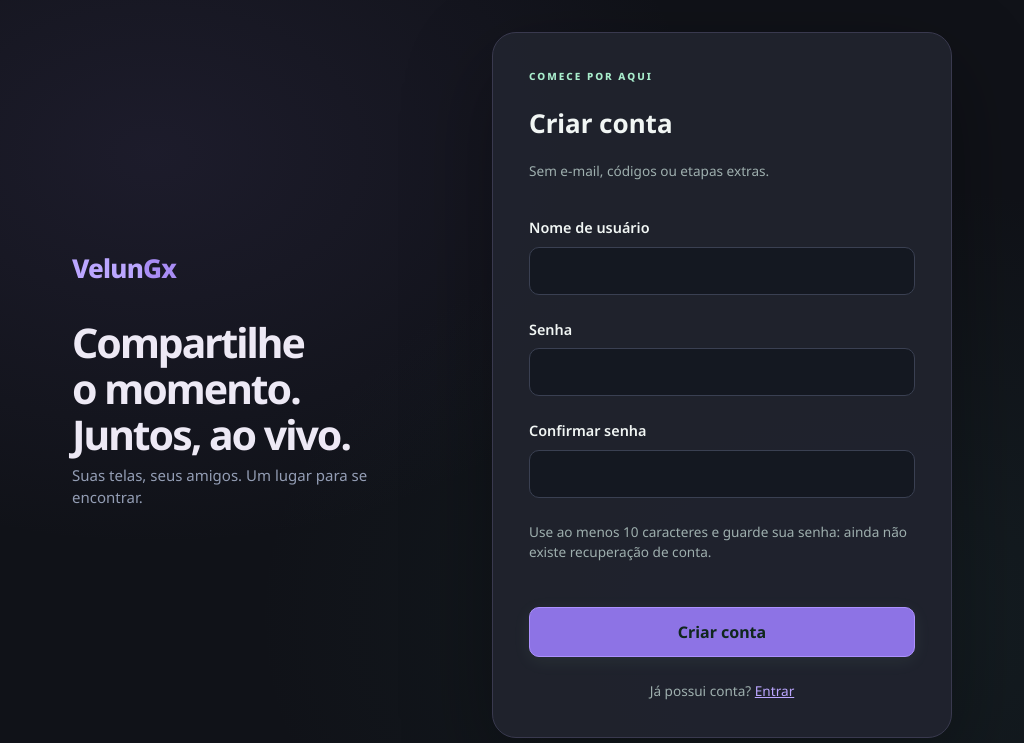
Conta › cadastra e mostra a conta obtida da API, sem guardar senha no storage
Step 1. Type "Davi" into the field labelled "Nome de usuário" → (722, 271), box [529,247,915,295]
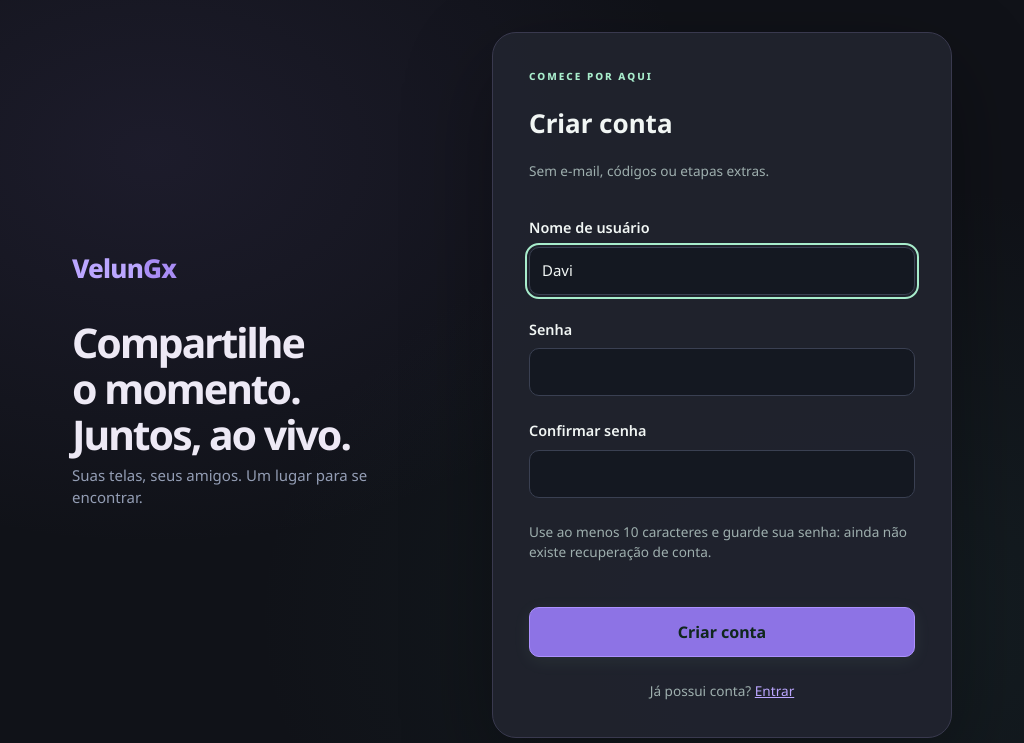
Step 2. Type "senha-muito-segura" into the password field labelled "Senha" → (722, 372), box [529,348,915,396]
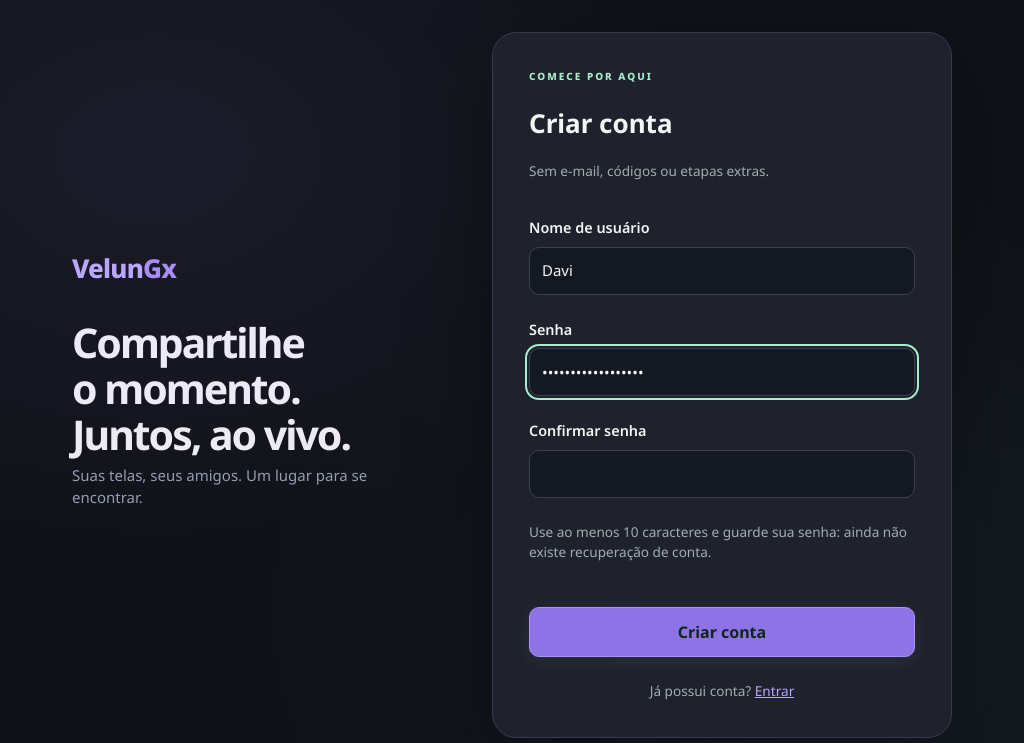
Step 3. Type "senha-muito-segura" into the password field labelled "Confirmar senha" → (722, 474), box [529,450,915,498]
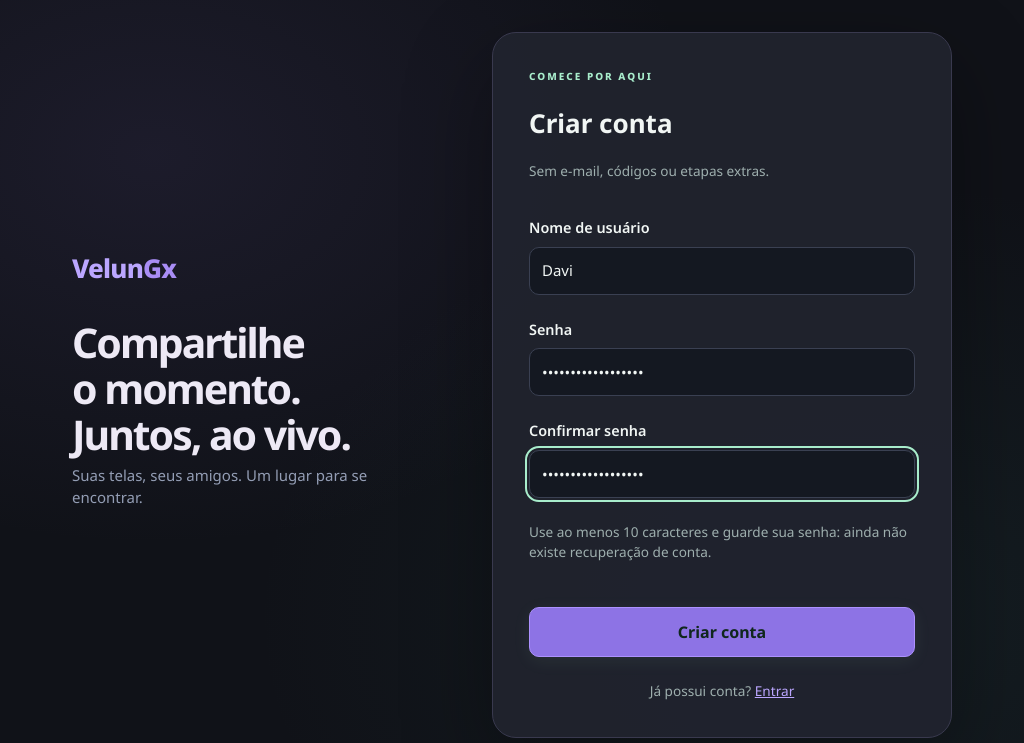
Step 4. Click the button "Criar conta" → (722, 632), box [529,607,915,657]
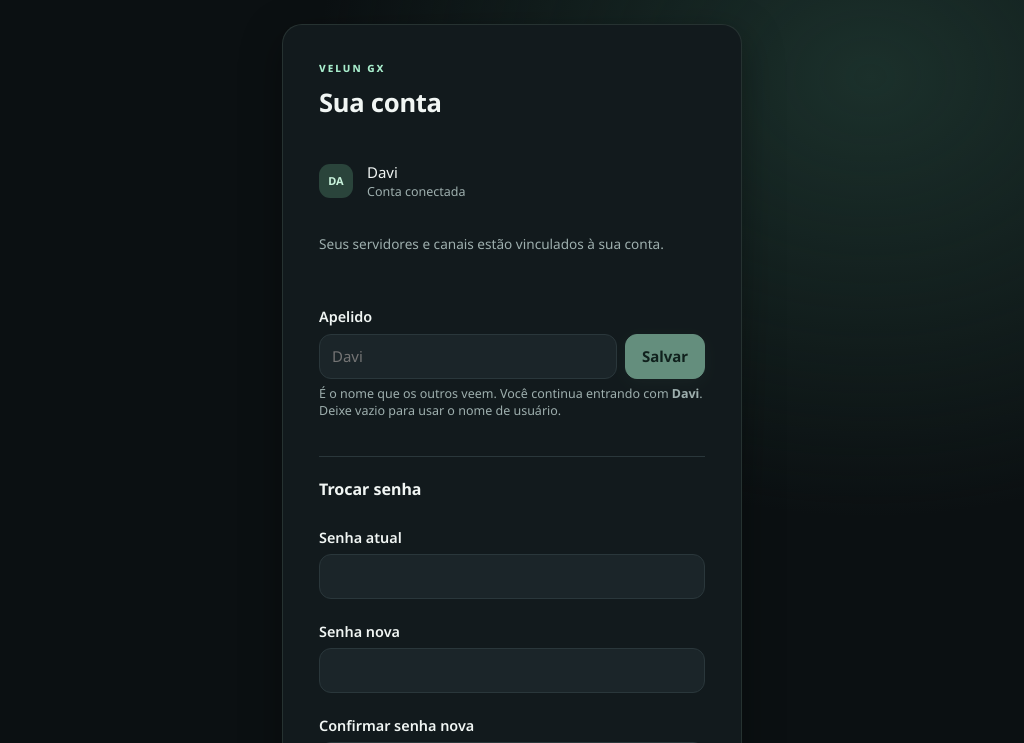
Now the text "Conta conectada" is shown, box [367,183,466,202]
